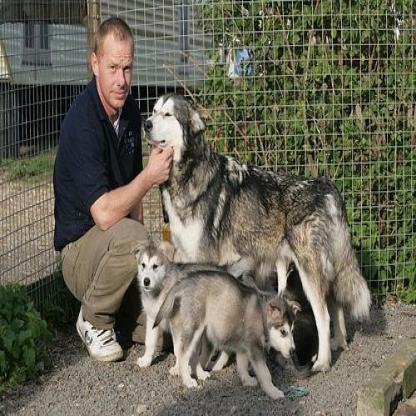malamute: (140, 88, 374, 378), (151, 267, 304, 400), (136, 236, 167, 370)
